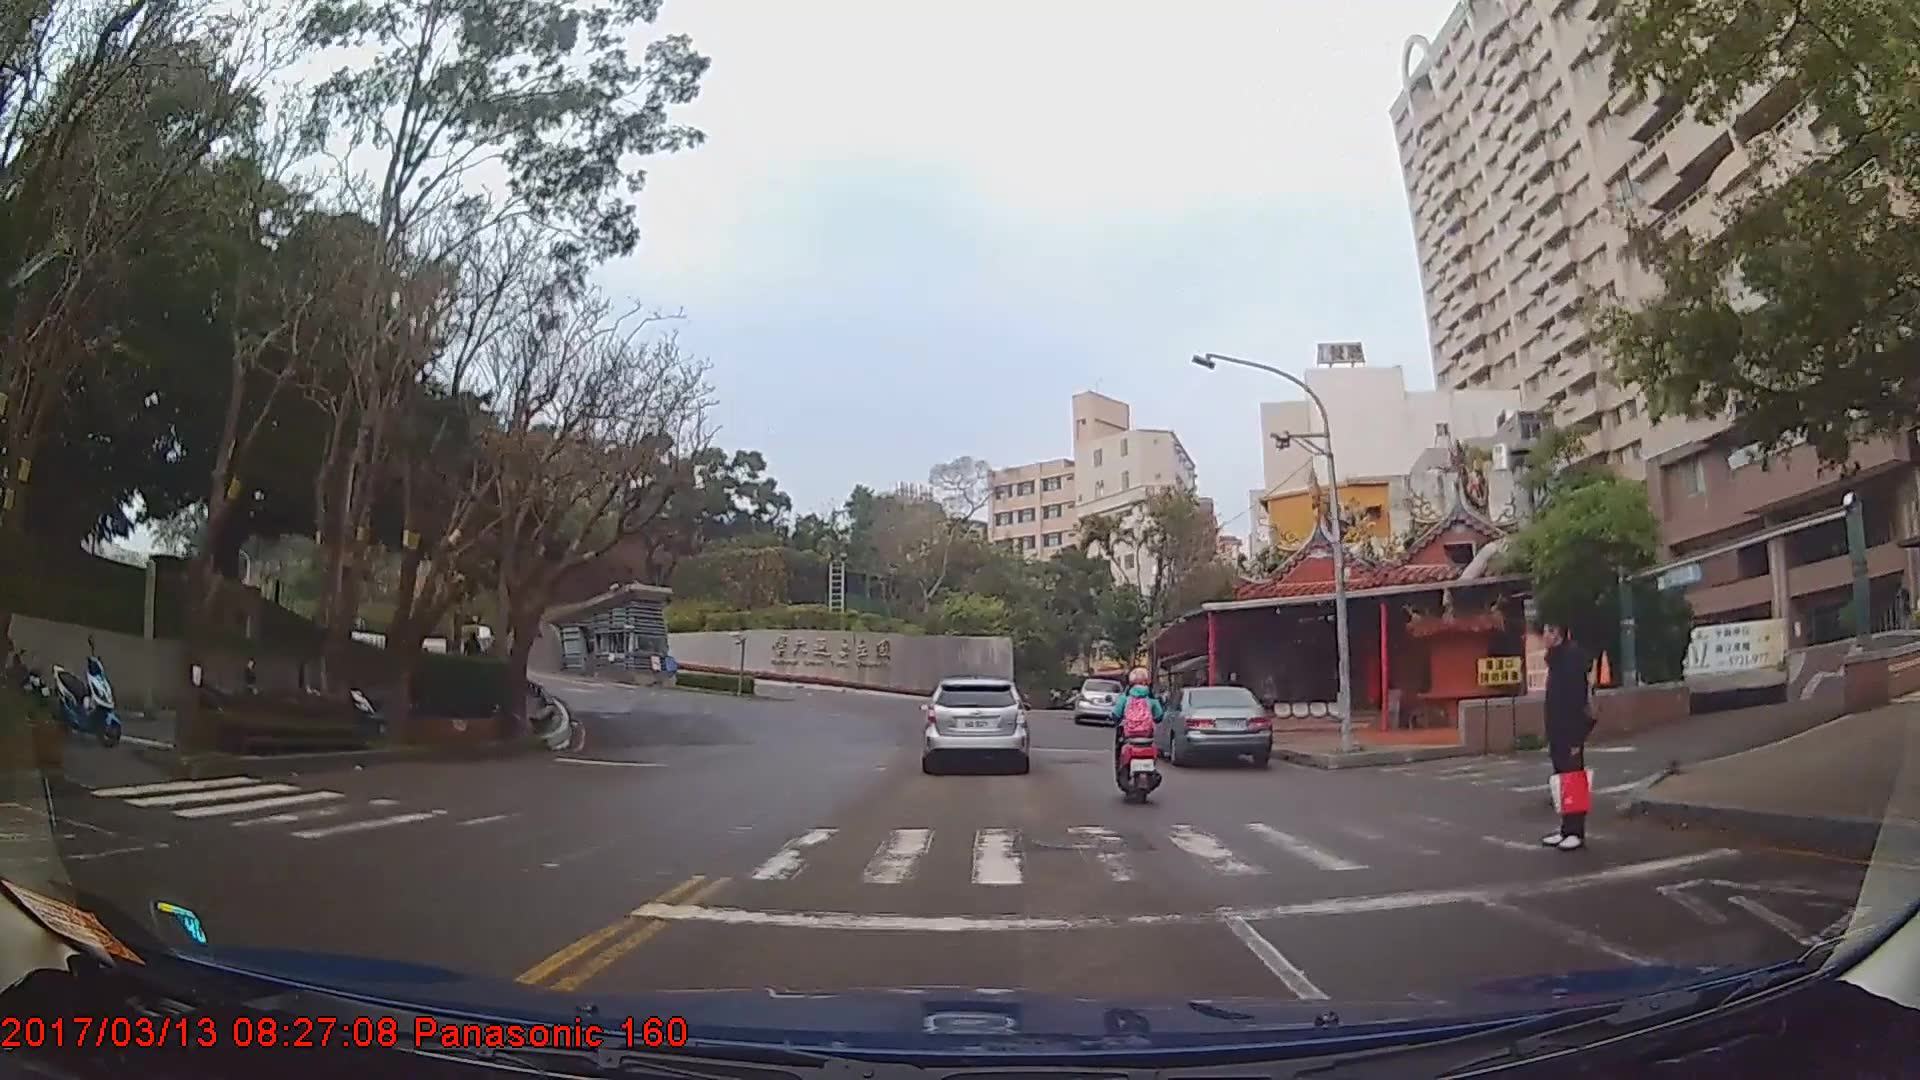pedestrian: (1538, 613, 1601, 852)
rider: (1111, 665, 1172, 810)
vehicle: (922, 670, 1028, 769), (1150, 684, 1269, 768), (1071, 676, 1122, 724)
